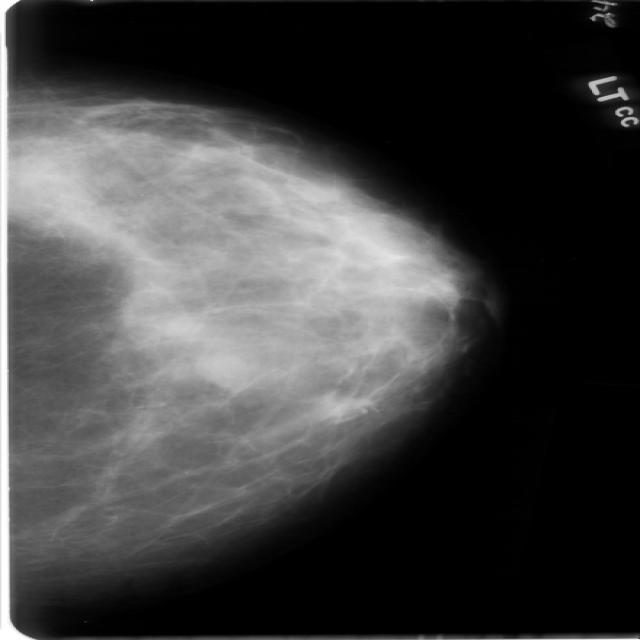tumour: (192, 350, 250, 393)
